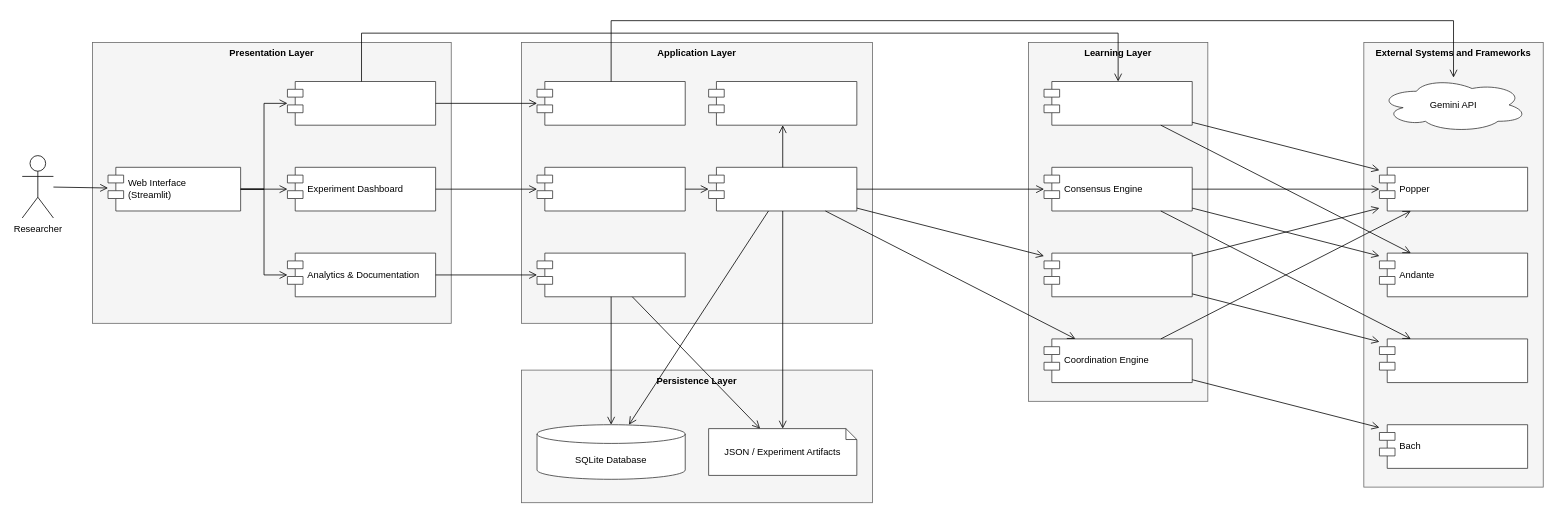
This 1557x516 diagram has some shape labels left out. The centre of each missing label's shape, as x and y in pixels:
Benchmark Manager: the point at 610,189
Centralized ILP: the point at 1117,103
Collaboration Engine: the point at 1117,274
Dataset Management: the point at 782,103
Experiment Launcher: the point at 782,189
Flower: the point at 1453,360
ILP Exploration: the point at 361,103
LLM Integration: the point at 610,103
Results & Analytics: the point at 610,274
